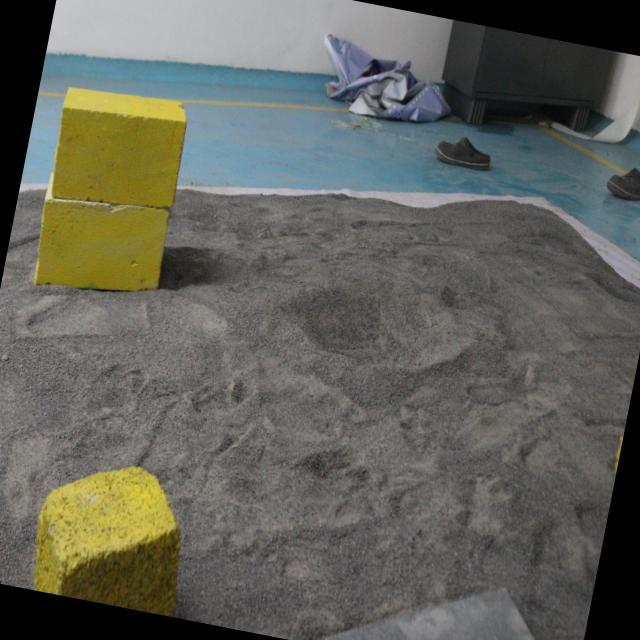box: (26, 76, 198, 321), (25, 449, 192, 616)
crater: (268, 235, 493, 402)
